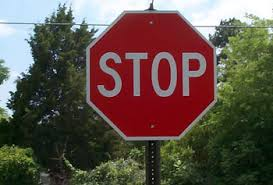stop_sign: (85, 10, 218, 141)
